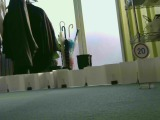speed_20: (133, 43, 150, 59)
